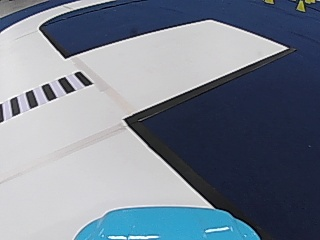CrossWalk: (5, 71, 89, 117)
